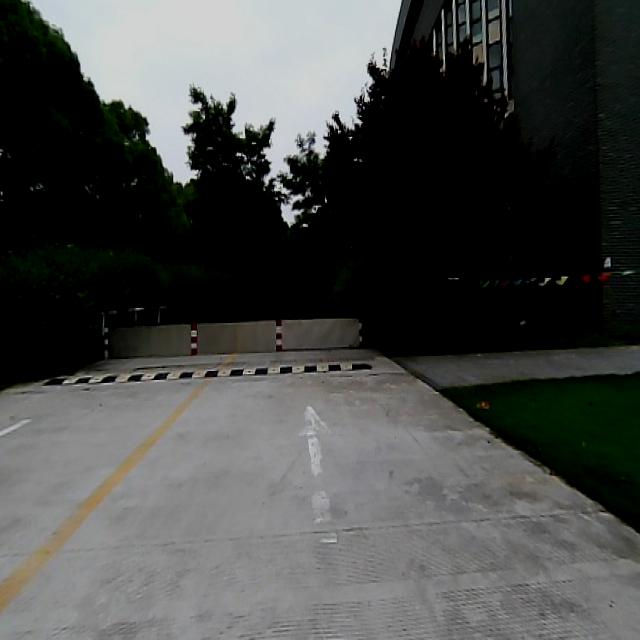Speed Bump: (41, 361, 374, 386)
